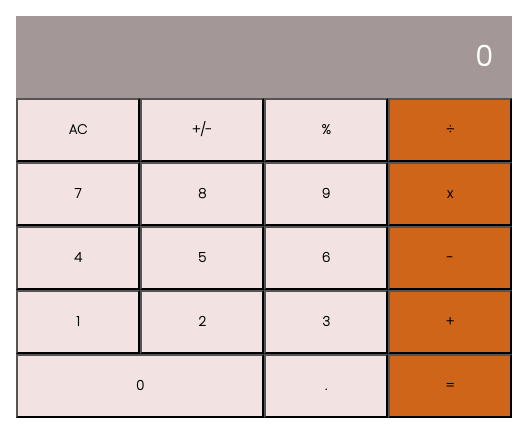
Test case: User interaction › simulate number
The width and height of the screenshot is (529, 435).
What coordinates should you click on to do the following:
click the button "7"
I would click on:
 (78, 194)
Its box is [16,162,140,226].
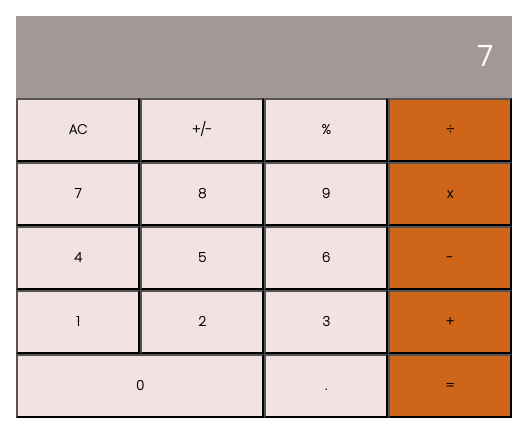
Check: the text "7" is shown, box [16,16,512,98]
